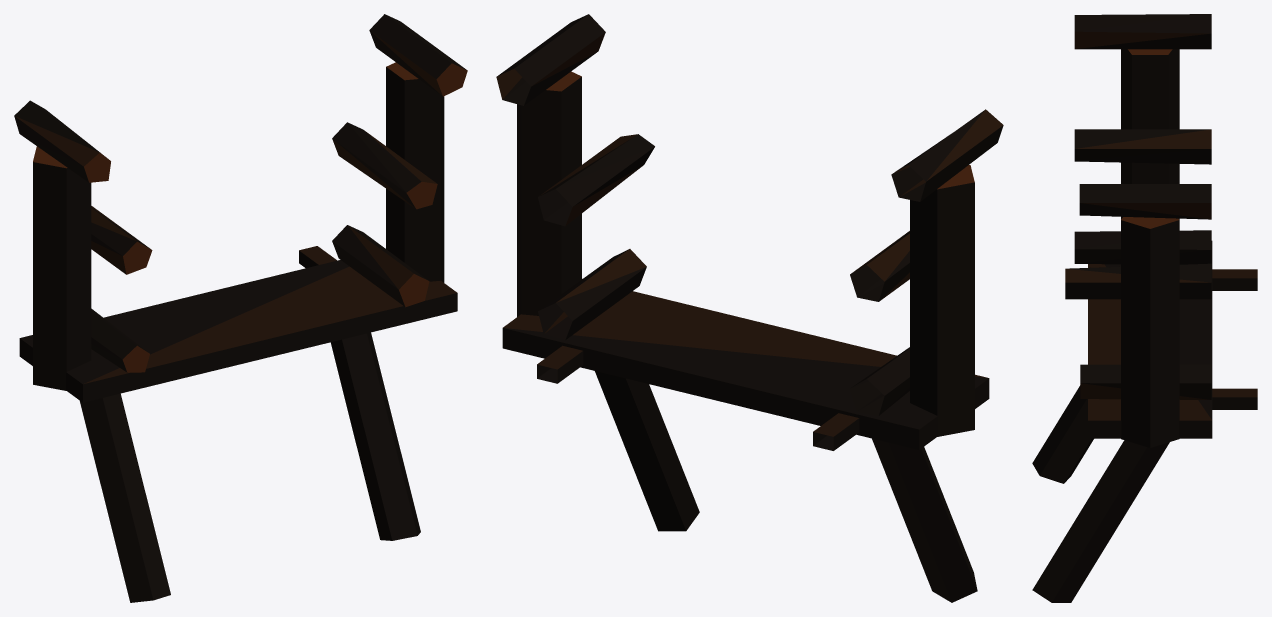
File: Bridge_2_start_end.fbx
The picture shows the model from 3 angles, left to right: view 1: azimuth 30°, elevation 25°; view 2: azimuth 150°, elevation 25°; view 3: azimuth 270°, elevation 25°; orthographic projection. The views are drawn at different scales.
Visible parts, largest first — view 1: Bridge_2_start_end; view 2: Bridge_2_start_end; view 3: Bridge_2_start_end.
Part boxes in pixels (bbox=[...]): Bridge_2_start_end: bbox=[14, 14, 467, 602]; Bridge_2_start_end: bbox=[496, 14, 1003, 602]; Bridge_2_start_end: bbox=[1032, 14, 1257, 602].
Size of the model in its own units: 245 by 259 by 118.
